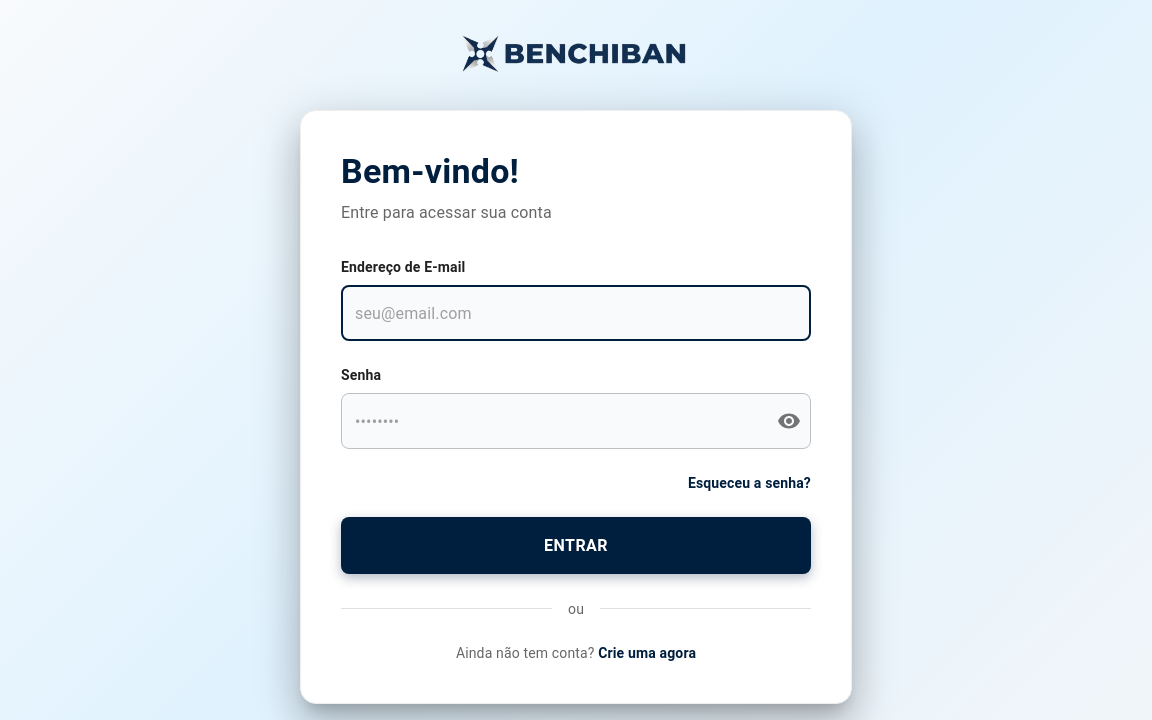
Página de Login › deve exibir erro se os campos estiverem vazios
Click the button "ENTRAR".
click(576, 546)  # box [341,517,811,574]
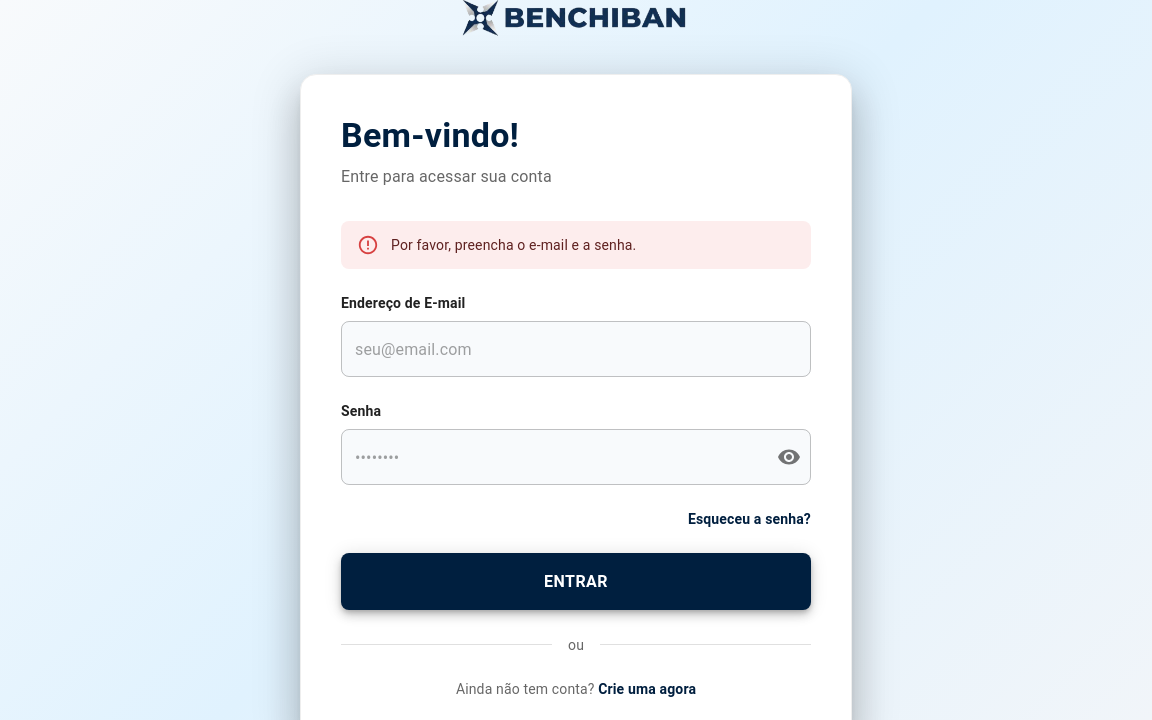
Check: the text "Por favor, preencha o e-mail e a senha." is shown, box [391,237,636,253]
